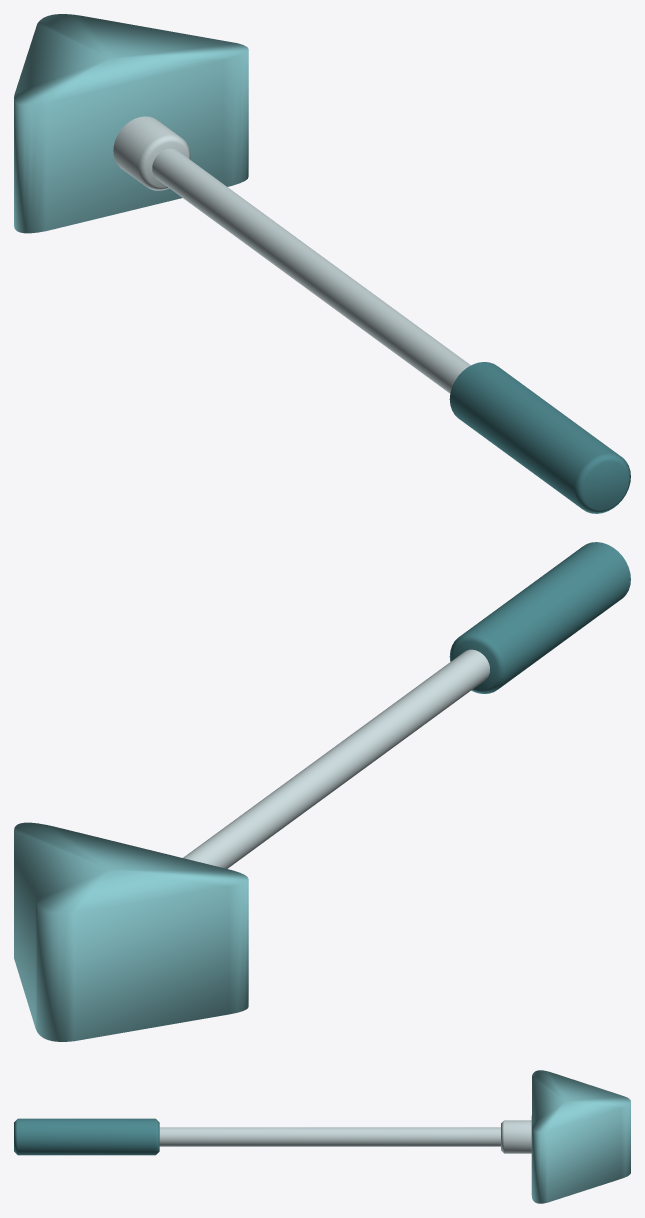
The model's file is reflex_hammer.glb.
3 views of the same model, one above another, from view 1: azimuth 30°, elevation 25°; view 2: azimuth 150°, elevation 25°; view 3: azimuth 270°, elevation 25° (orthographic). The views are drawn at different scales.
Visible parts, largest first — view 1: Rubber_Head, Shaft, Handle_Grip, Head_Ferrule; view 2: Rubber_Head, Shaft, Handle_Grip; view 3: Rubber_Head, Shaft, Handle_Grip, Head_Ferrule.
Part boxes in pixels (bbox=[...]): Rubber_Head: bbox=[14, 14, 248, 233]; Shaft: bbox=[152, 148, 470, 393]; Handle_Grip: bbox=[449, 362, 630, 513]; Head_Ferrule: bbox=[113, 116, 190, 190]; Rubber_Head: bbox=[14, 822, 248, 1041]; Shaft: bbox=[183, 649, 489, 868]; Handle_Grip: bbox=[449, 542, 630, 693]; Rubber_Head: bbox=[531, 1070, 630, 1203]; Shaft: bbox=[159, 1127, 500, 1146]; Handle_Grip: bbox=[14, 1118, 159, 1155]; Head_Ferrule: bbox=[501, 1120, 531, 1153].
Size of the model in its own units: 0.0528 by 0.028 by 0.2204.
